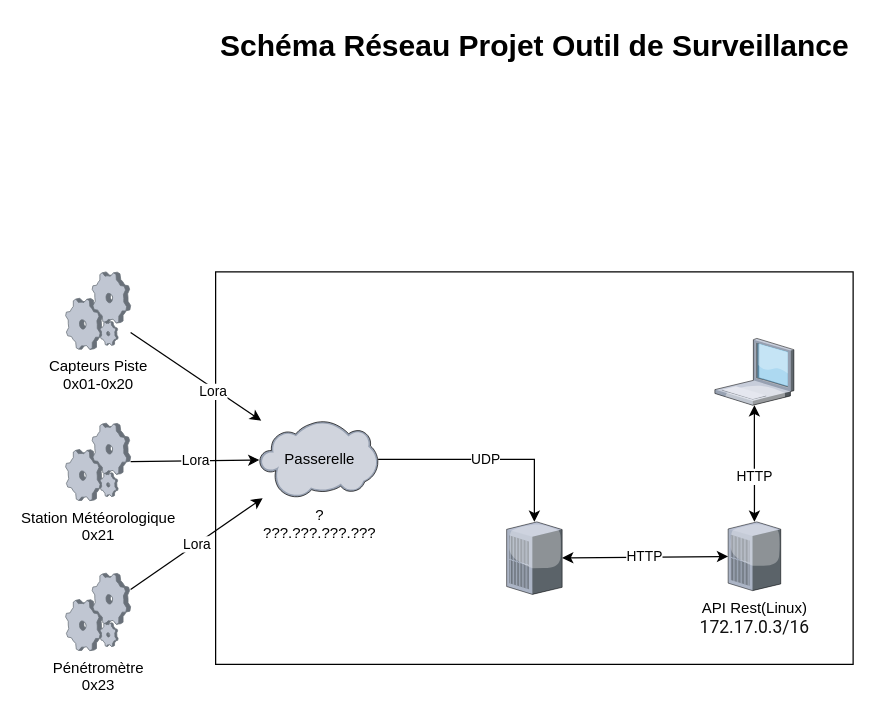
The diagram is 881 pixels wide and 716 high, and some of its shapes have lost their labels. The box of each missing label's shape, as (x1, y1, x2, y2) in pixels:
Base de Donnée (Linux) 172.17.0.2/16: (506, 521, 562, 594)
IHM WinFrom Opérateur 192.168.x.y: (714, 338, 793, 405)
